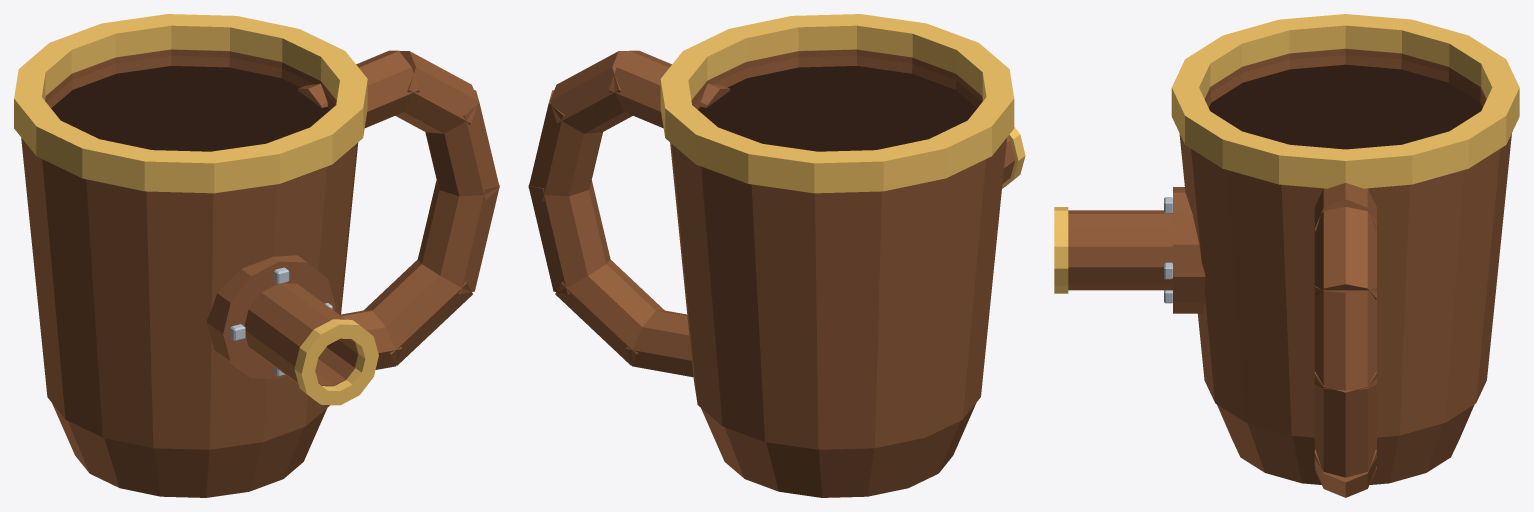
File: CoffeeMug.glb
3 views of the same model, side by side, from view 1: azimuth 30°, elevation 25°; view 2: azimuth 150°, elevation 25°; view 3: azimuth 270°, elevation 25° (orthographic). The views are drawn at different scales.
Visible parts, largest first — view 1: CoffeeMug; view 2: CoffeeMug; view 3: CoffeeMug.
Part boxes in pixels (left/top/right/bottom): CoffeeMug: left=14, top=14, right=499, bottom=497; CoffeeMug: left=528, top=14, right=1025, bottom=497; CoffeeMug: left=1054, top=14, right=1519, bottom=497.
Size of the model in its own units: 1.34 by 1 by 1.2.
